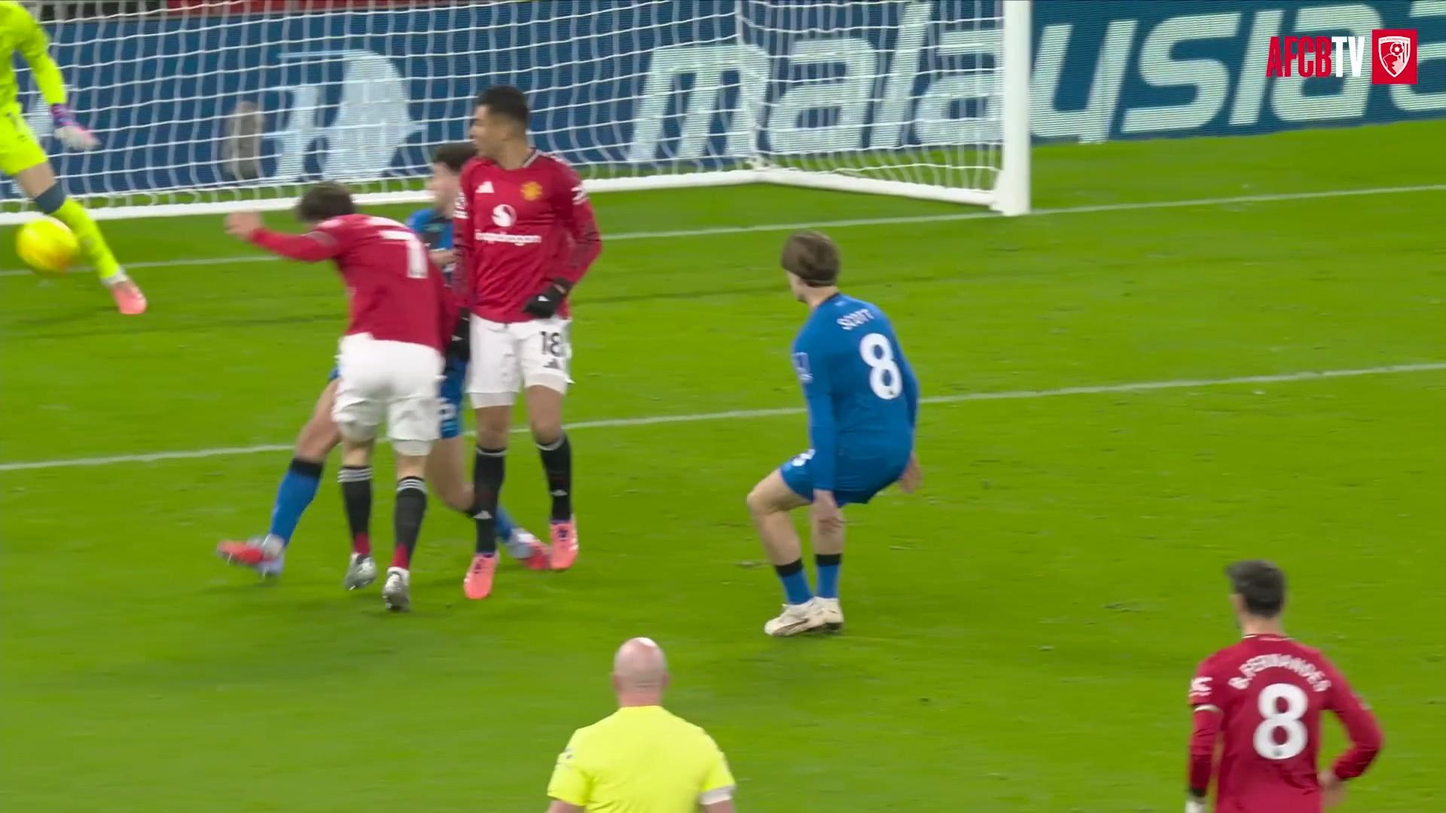football: (16, 218, 79, 275)
player: (226, 182, 456, 610), (454, 87, 600, 598), (746, 230, 920, 636), (1187, 561, 1381, 812), (0, 0, 146, 312), (218, 370, 340, 575)
referee: (548, 638, 734, 812)
